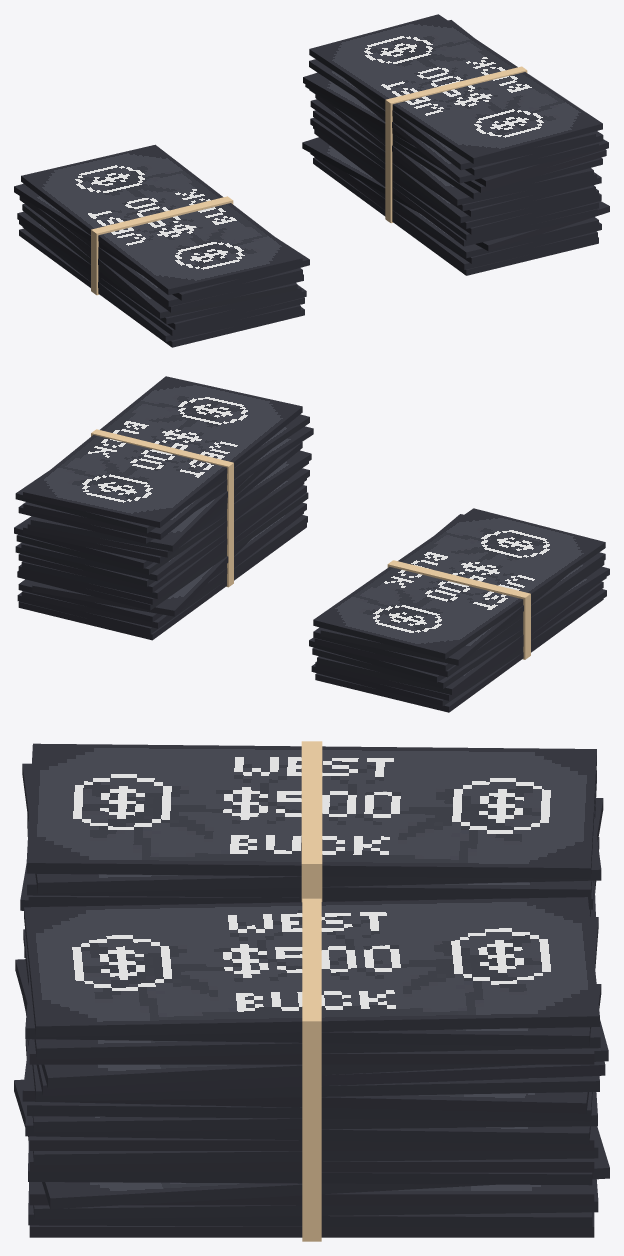
The model's file is Stacks.fbx.
The picture shows the model from 3 angles, top to bottom: view 1: azimuth 30°, elevation 25°; view 2: azimuth 150°, elevation 25°; view 3: azimuth 270°, elevation 25°; orthographic projection. The views are drawn at different scales.
Parts seen in each view (by area): view 1: 10k, 5K; view 2: 10k, 5K; view 3: 10k, 5K.
Part boxes in pixels (x1=…): 10k: x1=302, y1=14, x2=609, y2=275; 5K: x1=14, y1=144, x2=309, y2=347; 10k: x1=14, y1=376, x2=313, y2=640; 5K: x1=309, y1=508, x2=609, y2=712; 10k: x1=14, y1=897, x2=609, y2=1241; 5K: x1=20, y1=741, x2=603, y2=957.
Bounding box in the file's own units: 64.64 × 16.35 × 40.02.
1 material, 1 textured.
